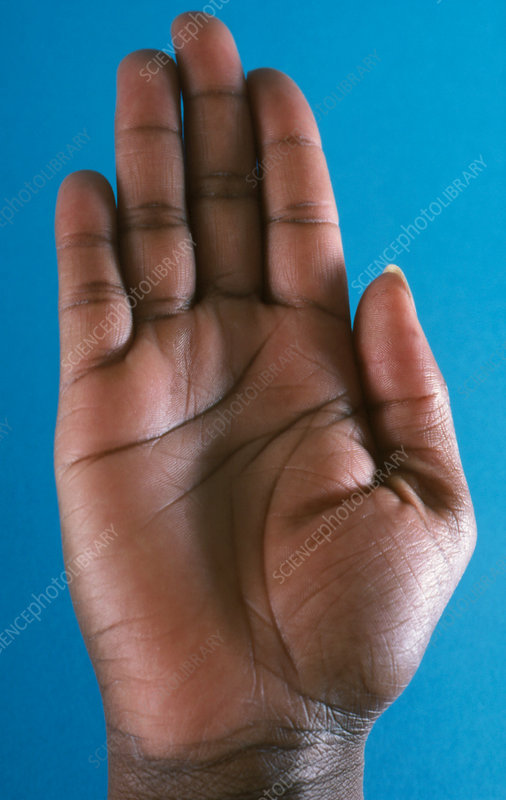palm: (51, 9, 480, 749)
